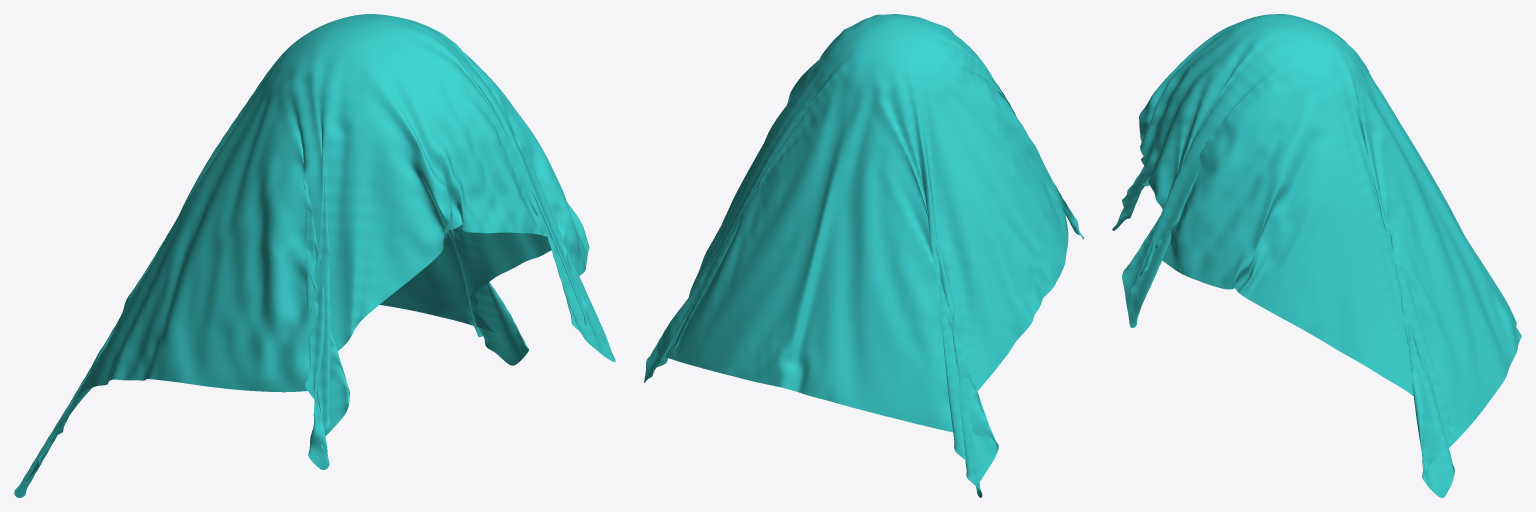
The model's file is trapo.fbx.
The picture shows the model from 3 angles, left to right: view 1: azimuth 30°, elevation 25°; view 2: azimuth 150°, elevation 25°; view 3: azimuth 270°, elevation 25°; orthographic projection. The views are drawn at different scales.
Visible parts, largest first — view 1: Plane; view 2: Plane; view 3: Plane.
Part boxes in pixels (x1=…): Plane: x1=14, y1=14, x2=615, y2=497; Plane: x1=644, y1=14, x2=1083, y2=497; Plane: x1=1112, y1=14, x2=1521, y2=497.
Size of the model in its own units: 15.19 by 15.01 by 13.83.
